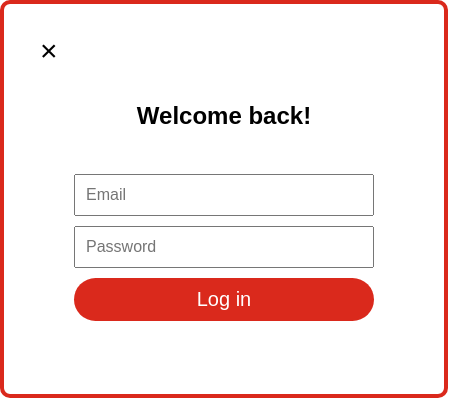
Test: Login › shows validation errors when submitting empty form
Click the button "Log in".
click(224, 299)  # box 74,278 -> 374,321
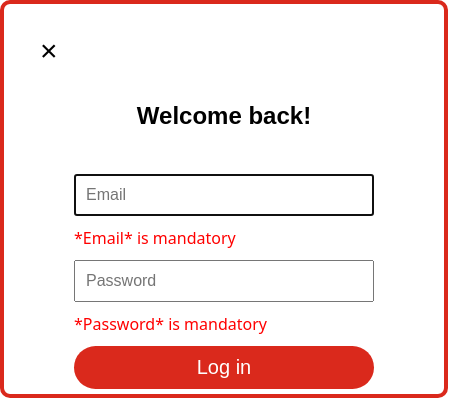
Result: the text "*Email* is mandatory" is shown at 74,227 -> 236,249
Result: the text "*Password* is mandatory" is shown at 74,313 -> 267,335
